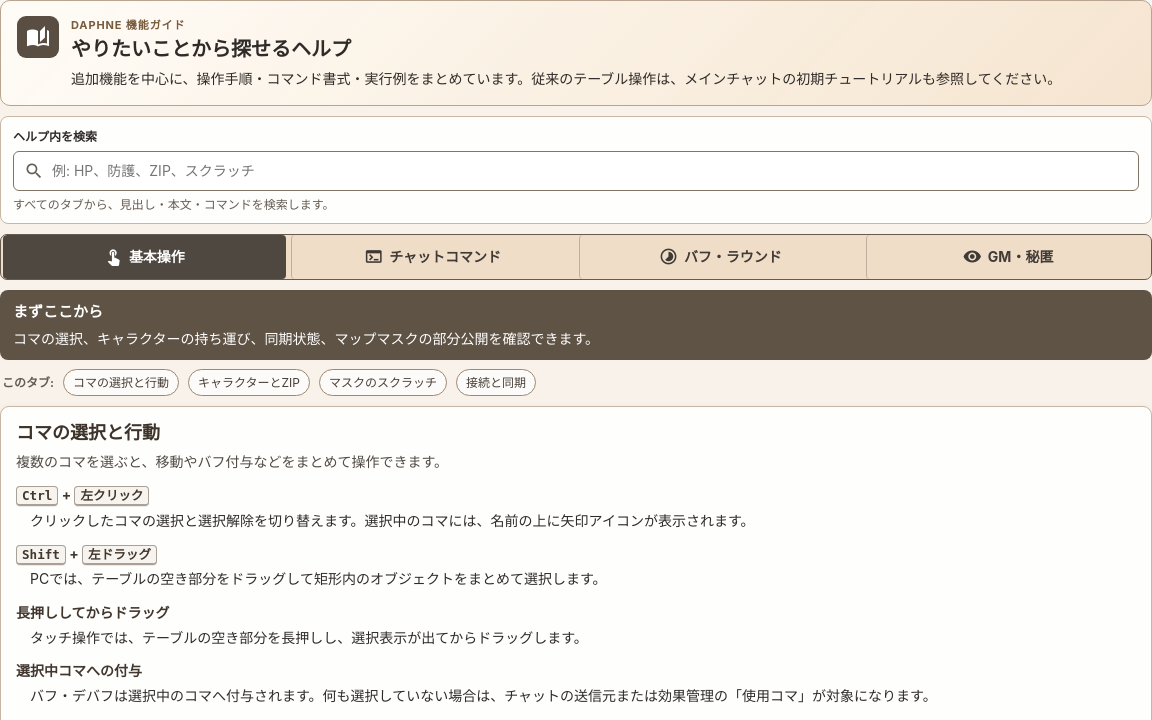
Test case: HelpPageComponent › searches topics from every tab and opens the selected result
Type "ＧＭ　画面共有" into the search field labelled "ヘルプ内を検索" at [591, 171], box [44,152,1138,190]
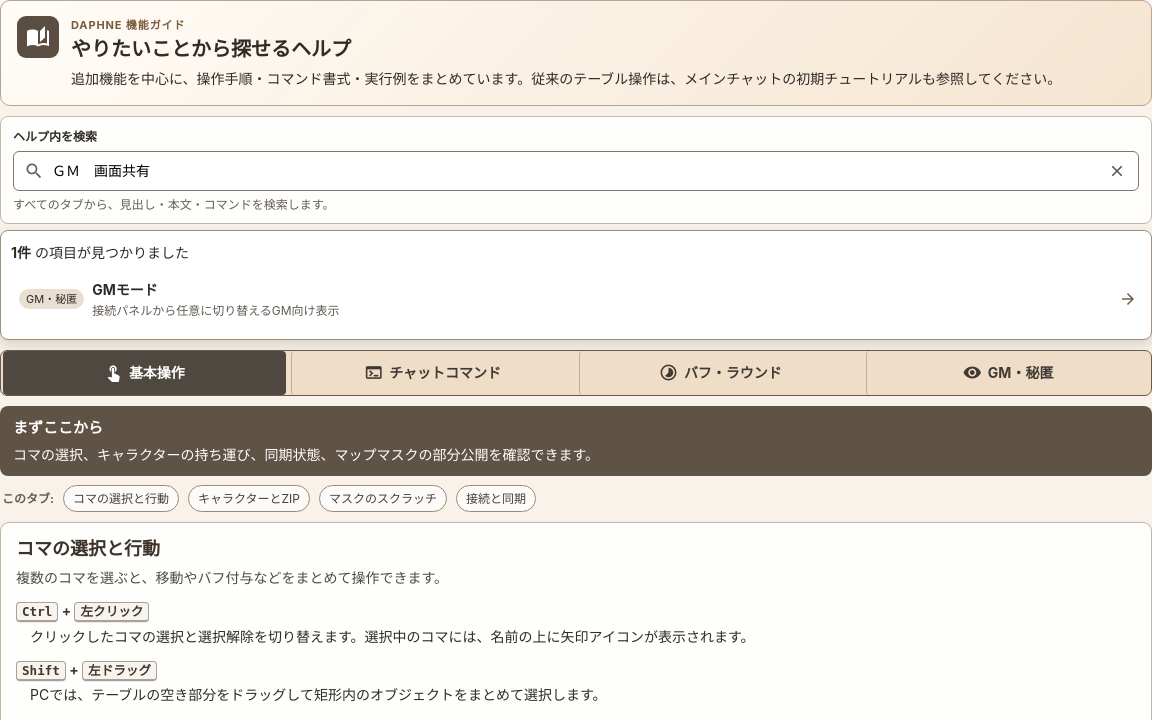
Now the button "GM・秘匿 GMモード 接続パネルから任意に切り替えるGM向け表示" is shown
Click the button "GM・秘匿 GMモード 接続パネルから任意に切り替えるGM向け表示" at [52, 299], box [13,270,1143,329]
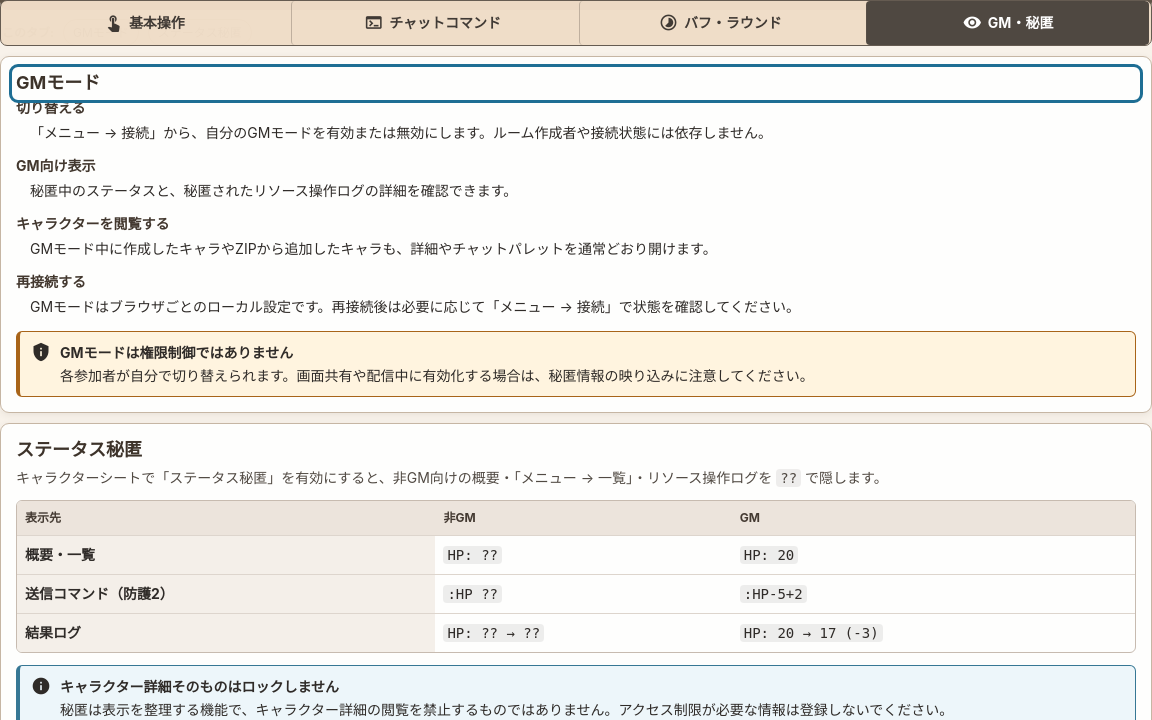
Now the element with class "search-results" is gone
